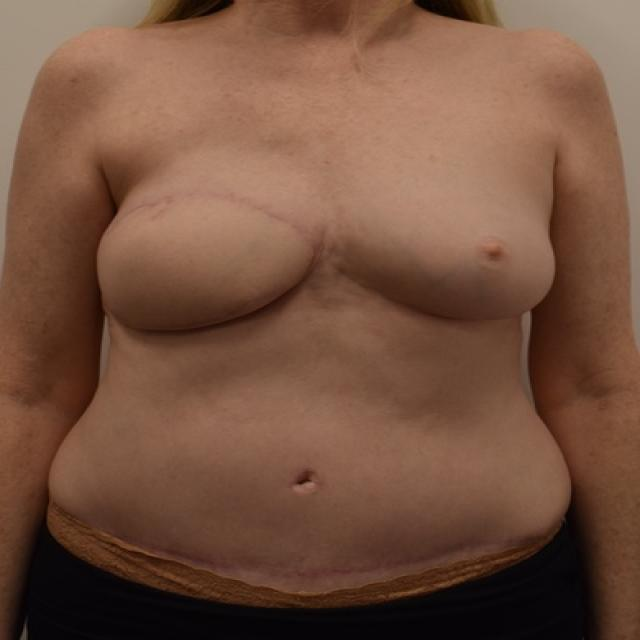Seno herido: (88, 149, 320, 341)
Seno ileso: (334, 149, 559, 341)
